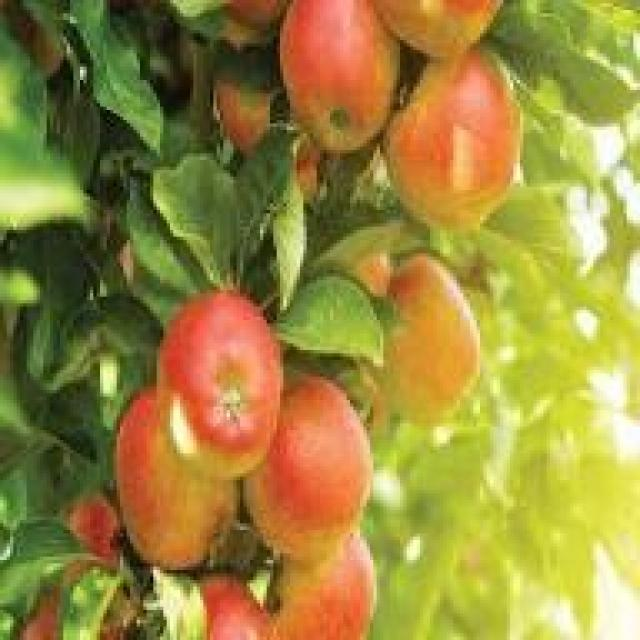apple: (110, 386, 233, 586), (403, 60, 537, 237), (150, 300, 280, 477), (257, 383, 380, 560), (373, 257, 487, 423), (274, 10, 394, 150), (254, 523, 384, 637)
